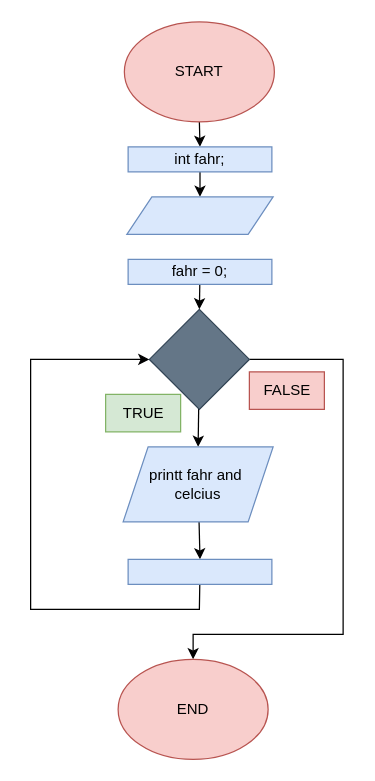
This 375x781 diagram has some shape labels left out. Each missing label, with the centre of its shape:
"fahr <= 300" goes at (x=198, y=358).
"fahr = fahr +20" goes at (x=199, y=571).
"print Fahr \t Celc" goes at (x=199, y=215).
